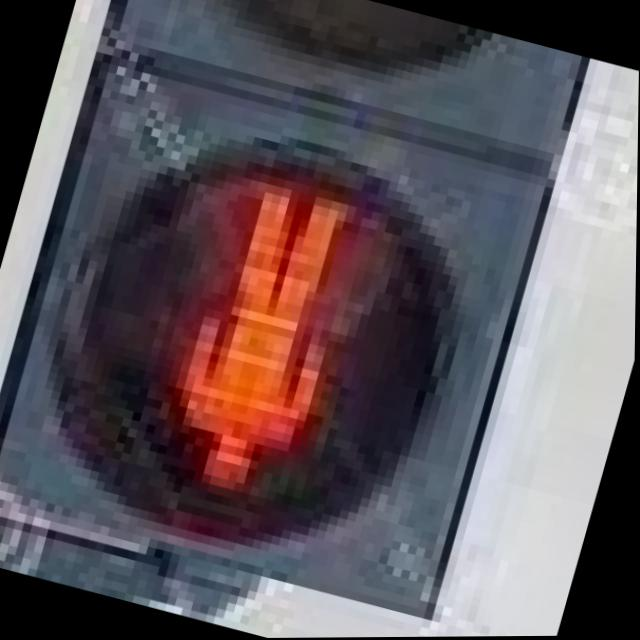red_light: (105, 154, 400, 536)
